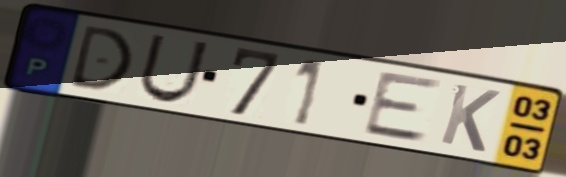1: (290, 57, 327, 128)
7: (227, 44, 282, 118)
D: (66, 23, 137, 93)
E: (359, 70, 446, 146)
K: (435, 80, 504, 156)
U: (135, 31, 213, 105)
